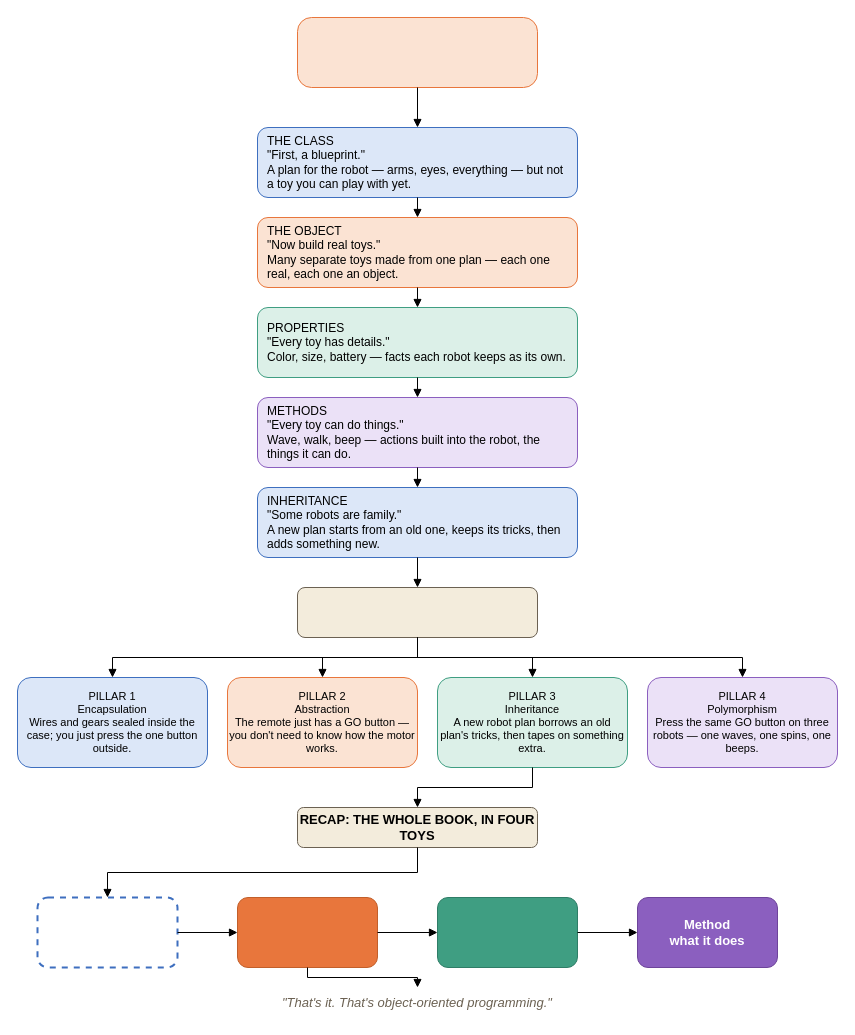
Image size: 855x1035. Some labels were removed from this diagram. Each missing label, with the centre of its shape:
Class the plan: (107,932)
HERO "What is OOP?" It's just toy robots. Really.: (417,52)
Object the toy: (307,932)
Property what it has: (507,932)
THE FOUR BIG IDEAS Grown-ups gave these four toy-robot habits fancy names.: (417,612)
